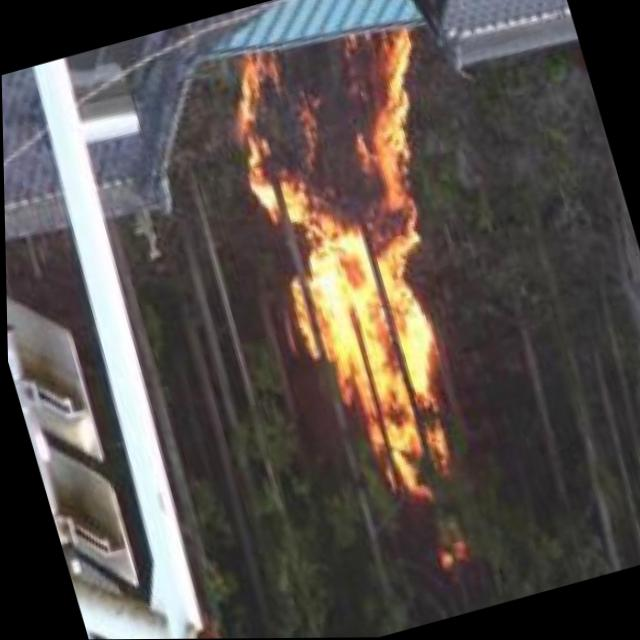Fire: (208, 7, 536, 516)
